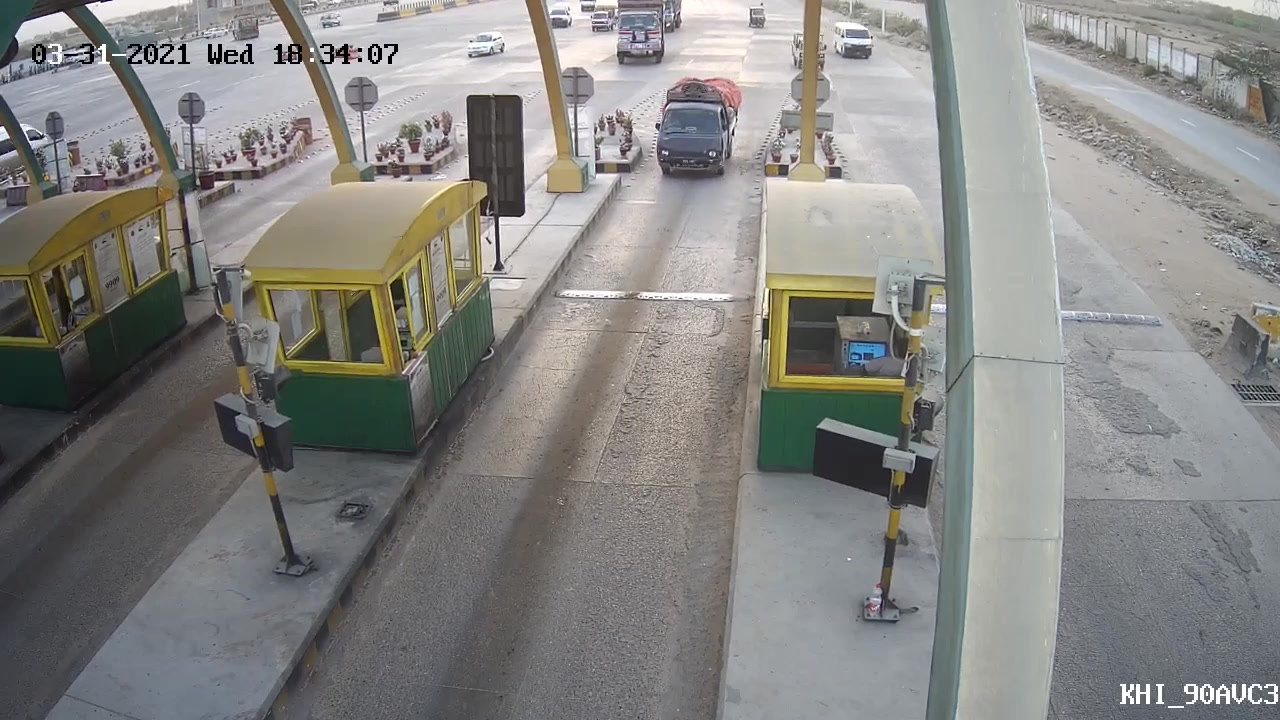F2: (646, 72, 742, 180)
